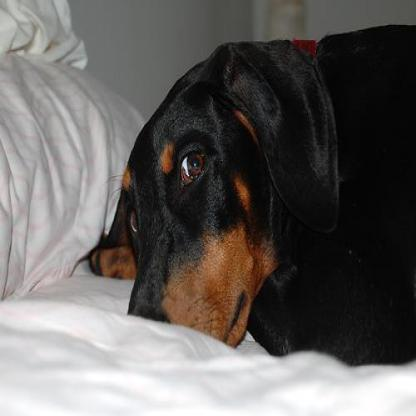Doberman: (85, 32, 412, 365)
